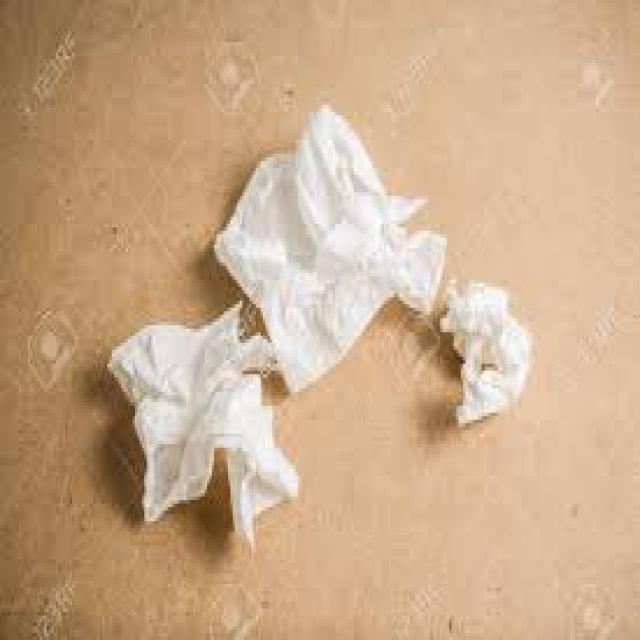tissue: (215, 111, 445, 391), (109, 302, 297, 546), (440, 280, 531, 425)
